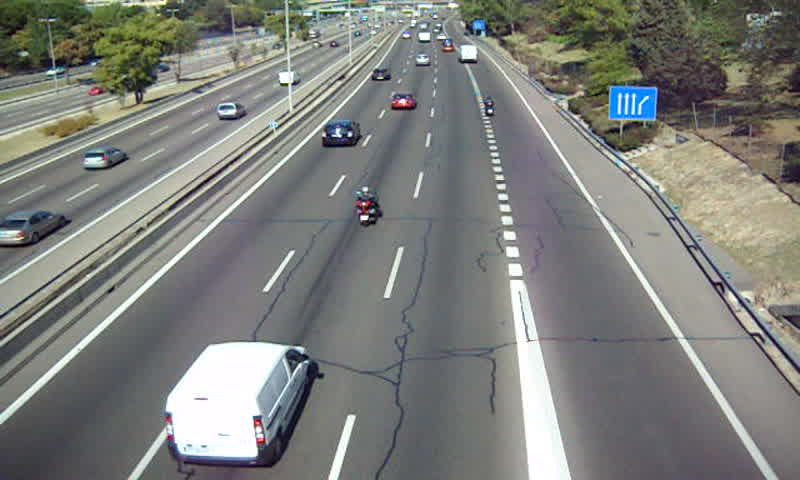car: (322, 120, 360, 145), (390, 92, 416, 108), (370, 66, 391, 80), (413, 53, 429, 67)
motorcycle: (354, 187, 380, 229), (484, 95, 494, 117)
van: (164, 342, 312, 468), (459, 43, 478, 62)
